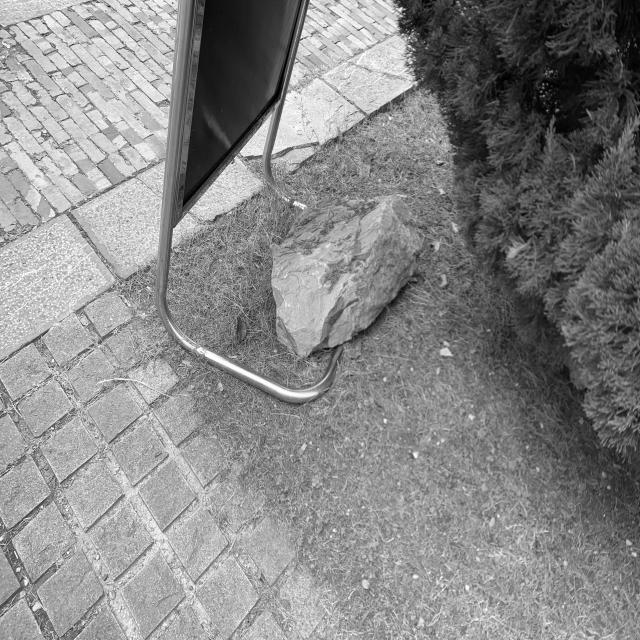Stone: (271, 196, 420, 356)
